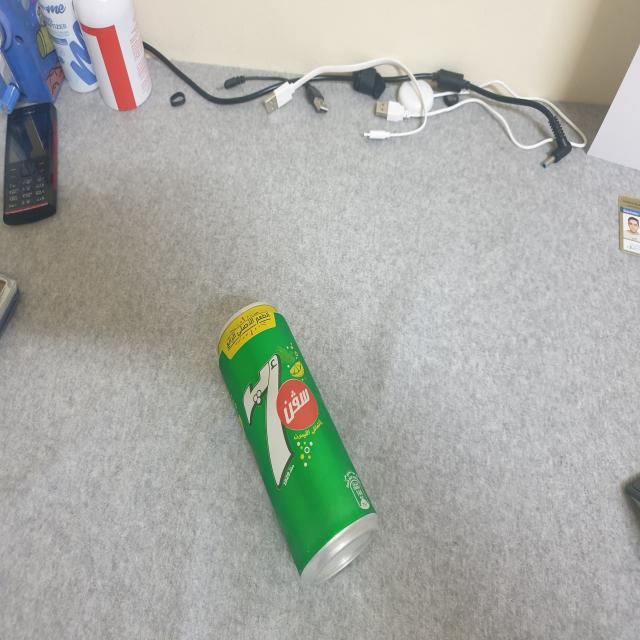non-organic waste: (208, 287, 388, 597)
